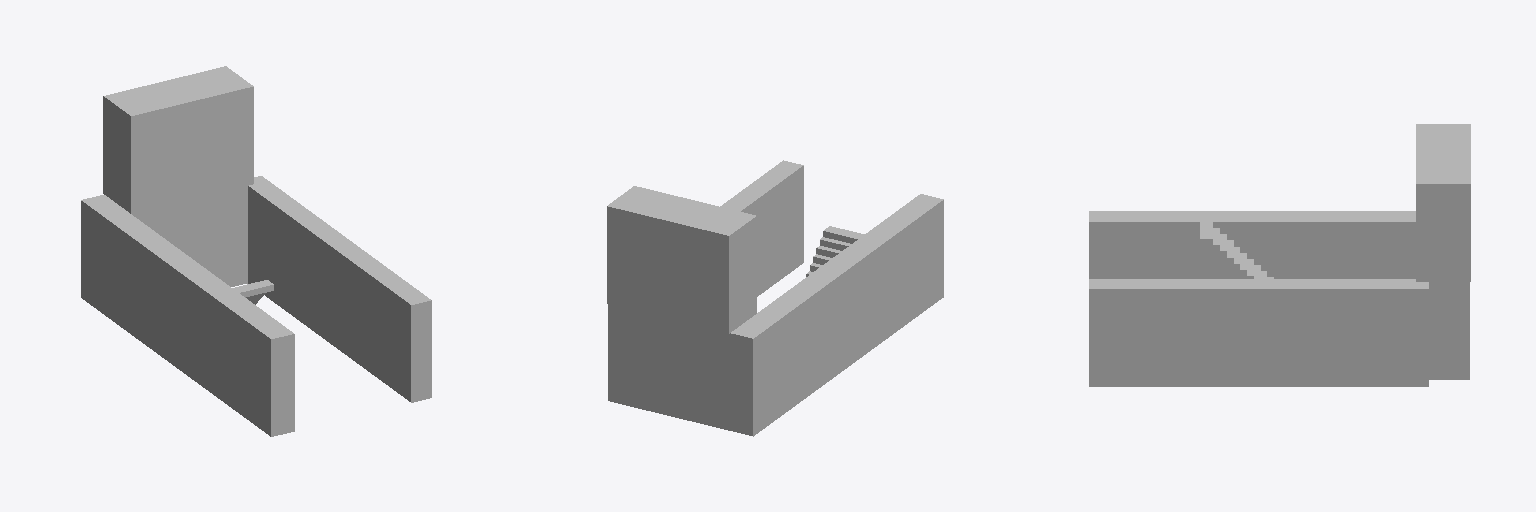
Rendered from base_no_floor.obj.
3 renders of one model, left to right at view 1: azimuth 30°, elevation 25°; view 2: azimuth 150°, elevation 25°; view 3: azimuth 270°, elevation 25°, orthographic.
Visible parts, largest first — view 1: entity0_brush0, entity0_brush2, entity0_brush4, entity0_brush1; view 2: entity0_brush0, entity0_brush4, entity0_brush1, entity0_brush2; view 3: entity0_brush2, entity0_brush0, entity0_brush4, entity0_brush1.
Boxes of the visible parts, <box> form: entity0_brush0: <box>81,195,294,436</box>; entity0_brush2: <box>248,176,431,402</box>; entity0_brush4: <box>103,66,253,213</box>; entity0_brush1: <box>132,186,247,286</box>; entity0_brush0: <box>730,194,943,436</box>; entity0_brush4: <box>607,186,756,333</box>; entity0_brush1: <box>608,304,729,430</box>; entity0_brush2: <box>720,160,803,296</box>; entity0_brush2: <box>1089,279,1428,386</box>; entity0_brush0: <box>1089,211,1415,278</box>; entity0_brush4: <box>1416,124,1470,281</box>; entity0_brush1: <box>1429,282,1469,379</box>.
Size of the model in its own units: 220 by 272 by 454.